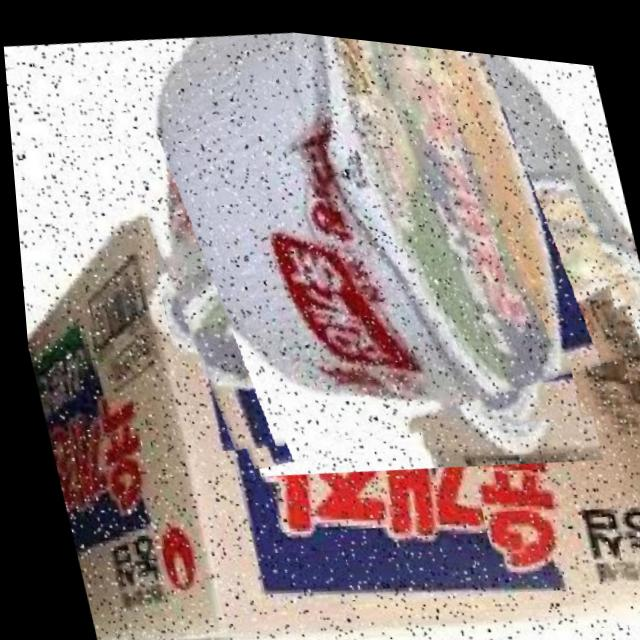Miscellaneous: (99, 8, 640, 490)
